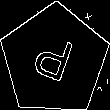P_S: (30, 30, 79, 90)
